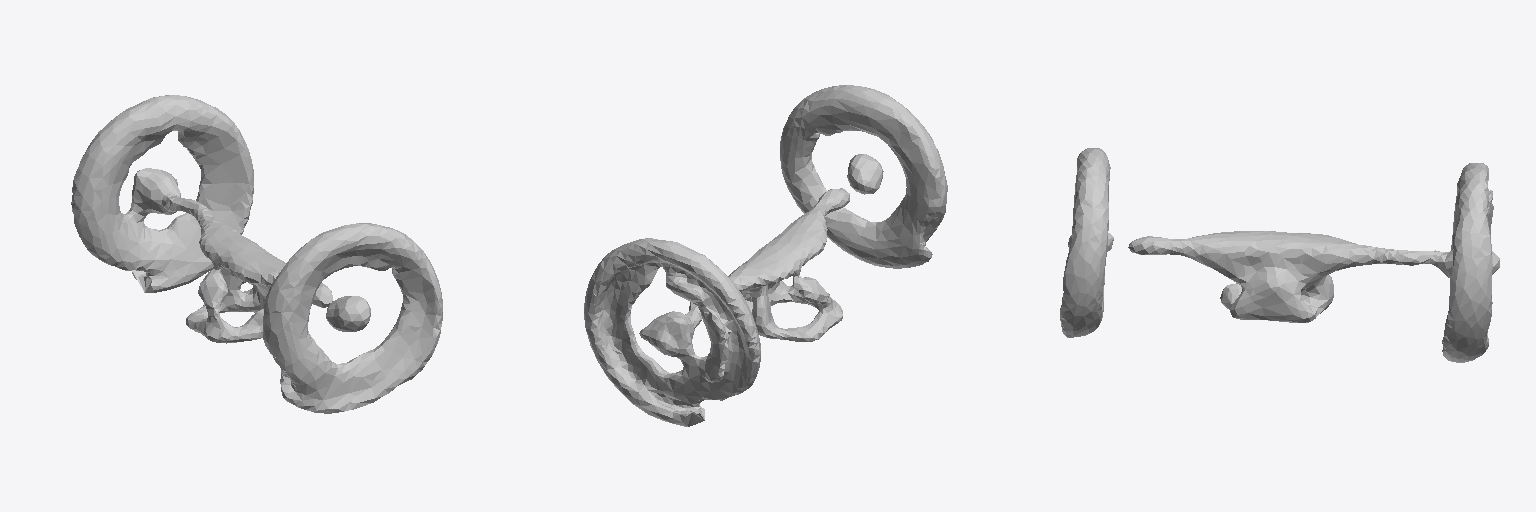
The model's file is wheelsTrucks.obj.
3 renders of one model, left to right at view 1: azimuth 30°, elevation 25°; view 2: azimuth 150°, elevation 25°; view 3: azimuth 270°, elevation 25°, orthographic.
Visible parts, largest first — view 1: wheelsSkanect1; view 2: wheelsSkanect1; view 3: wheelsSkanect1.
Boxes of the visible parts, x1,y1,x2,y2 form: wheelsSkanect1: [71, 95, 442, 413]; wheelsSkanect1: [584, 85, 947, 426]; wheelsSkanect1: [1060, 148, 1499, 362].
Size of the model in its own units: 1.78 by 1.93 by 3.9.